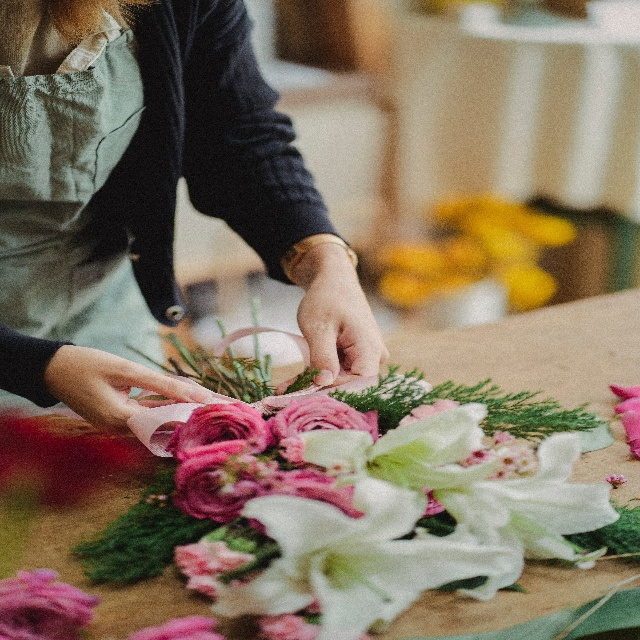Sin_guantes: (63, 343, 202, 429), (296, 283, 391, 387)
